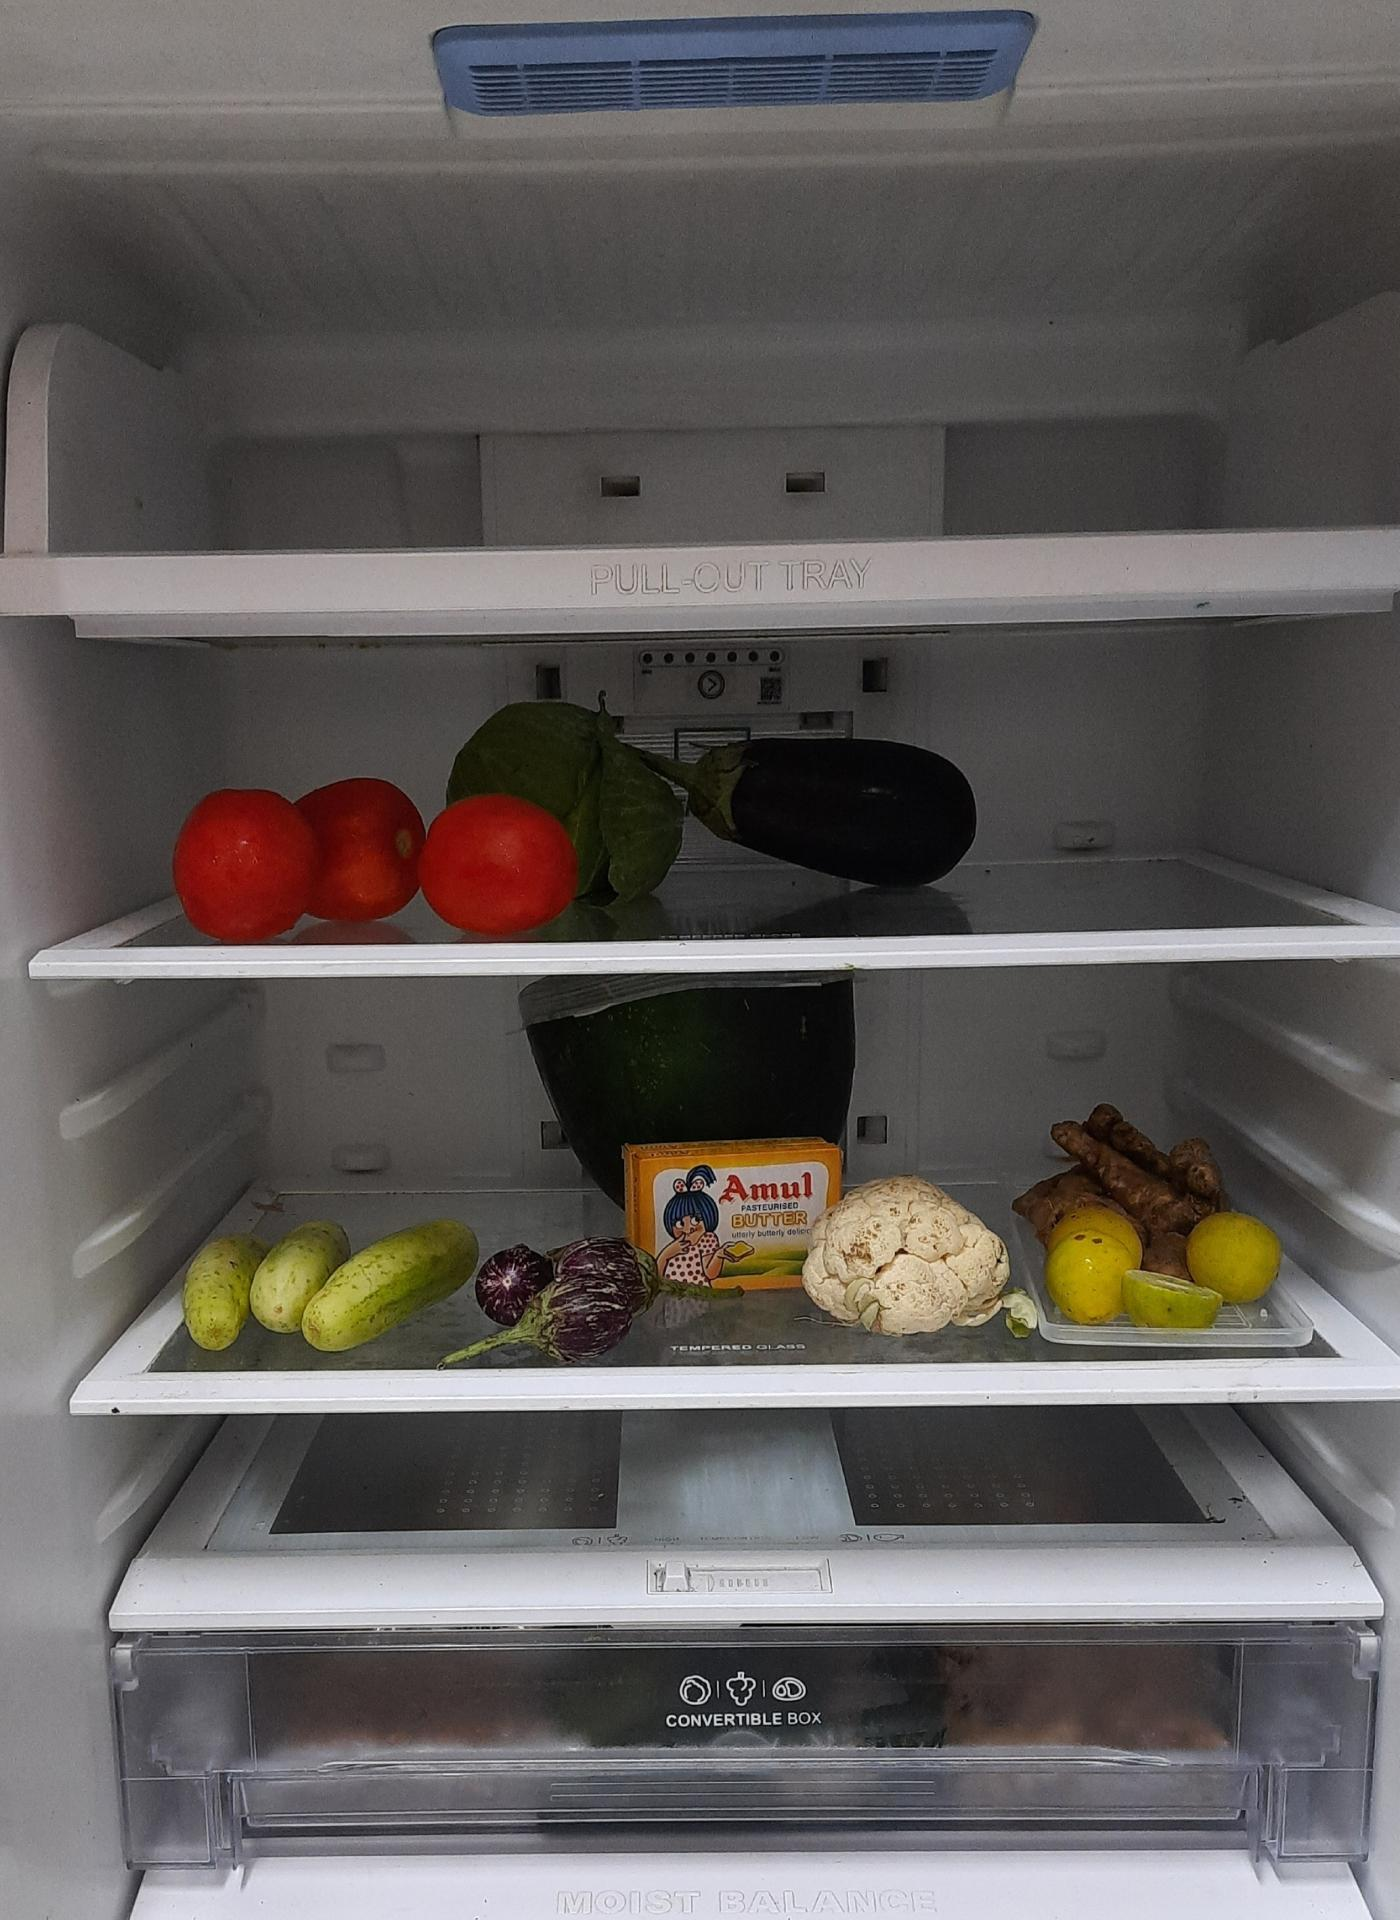brinjal: (678, 726, 978, 887), (471, 1237, 650, 1364)
butter: (641, 1131, 836, 1273)
cabbage: (450, 704, 680, 909)
cauliflower: (810, 1175, 1005, 1343)
cucumber: (183, 1215, 482, 1354)
ginger: (1009, 1099, 1243, 1236)
lemon: (1038, 1209, 1281, 1328)
tomato: (176, 769, 570, 932)
watermelon: (522, 969, 860, 1213)
